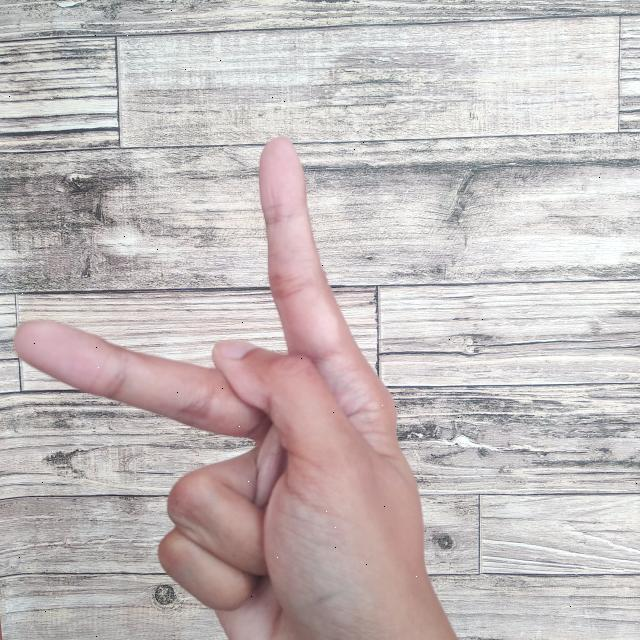K: (7, 128, 464, 640)
